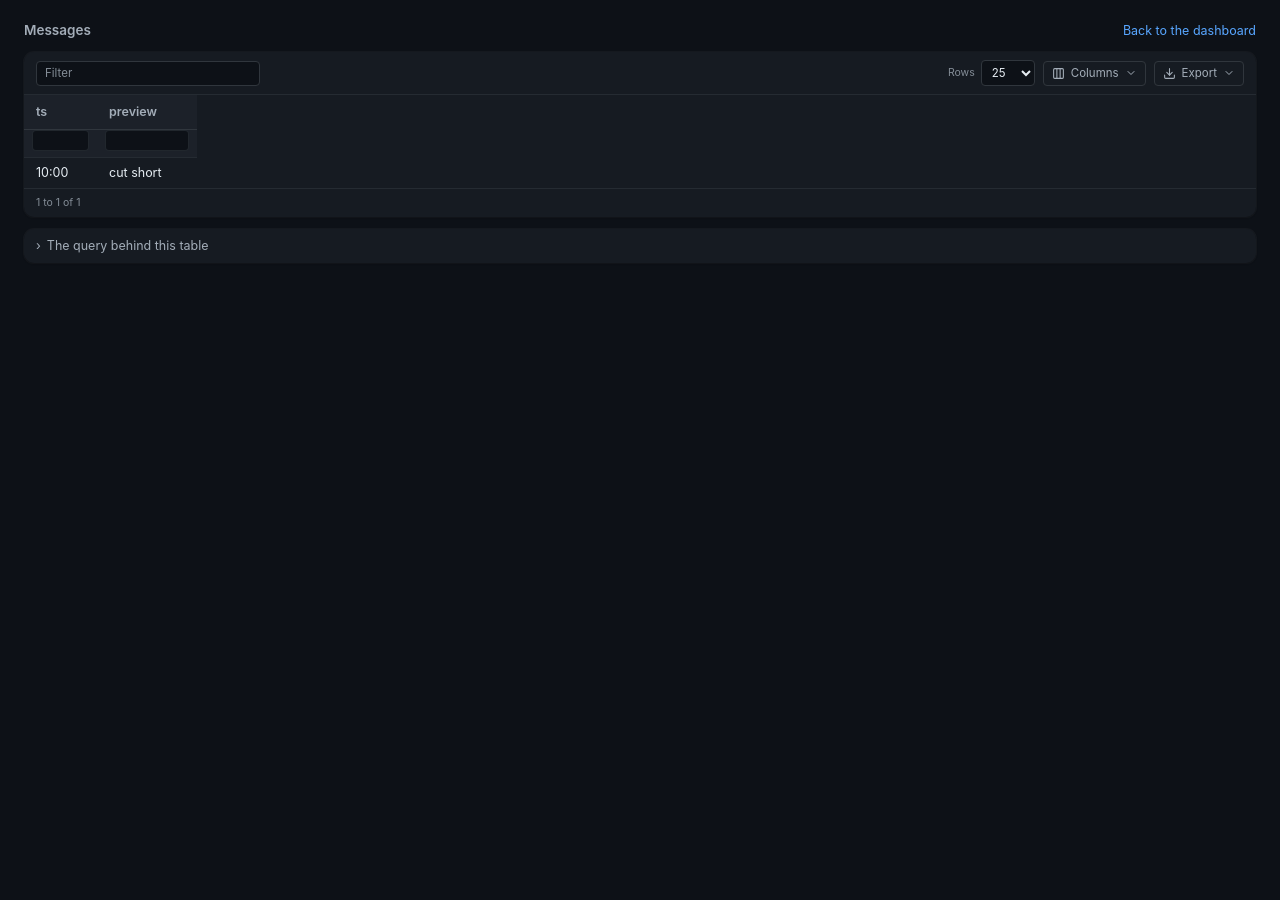
Scenario: the standalone page does everything the pane does with that table › opens a row in the reader, on the page whose own note promises it
Click the row "10:00 cut short" at (110,173), box [24,158,197,188]
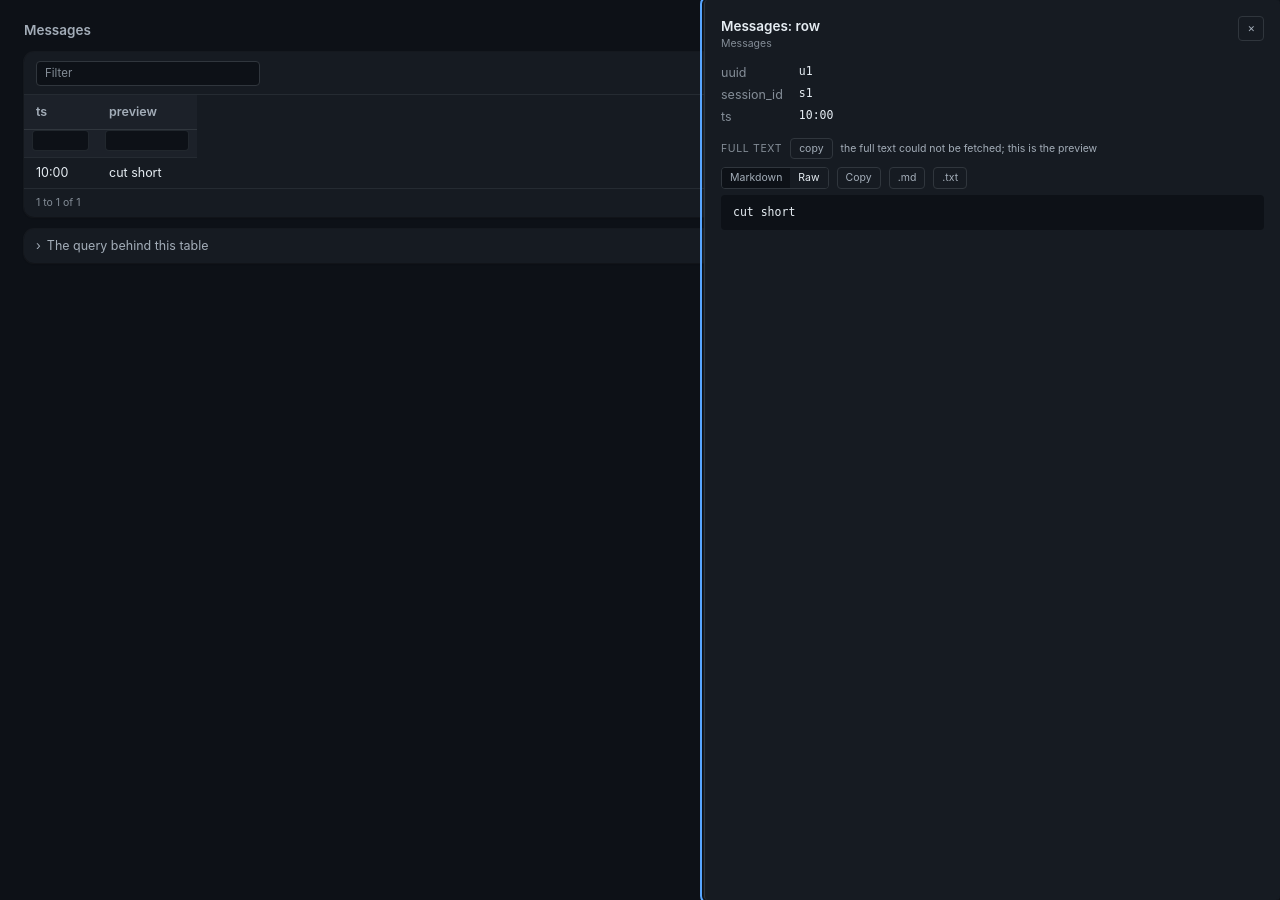
Result: the dialog shows "10:00" at [799,108,833,122]
